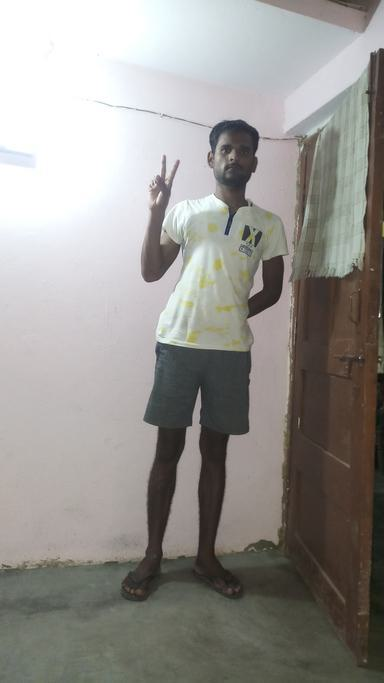peace: (145, 152, 183, 214)
